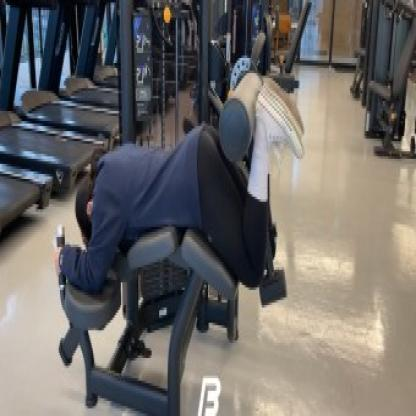reg curl machine: (52, 0, 306, 416)
